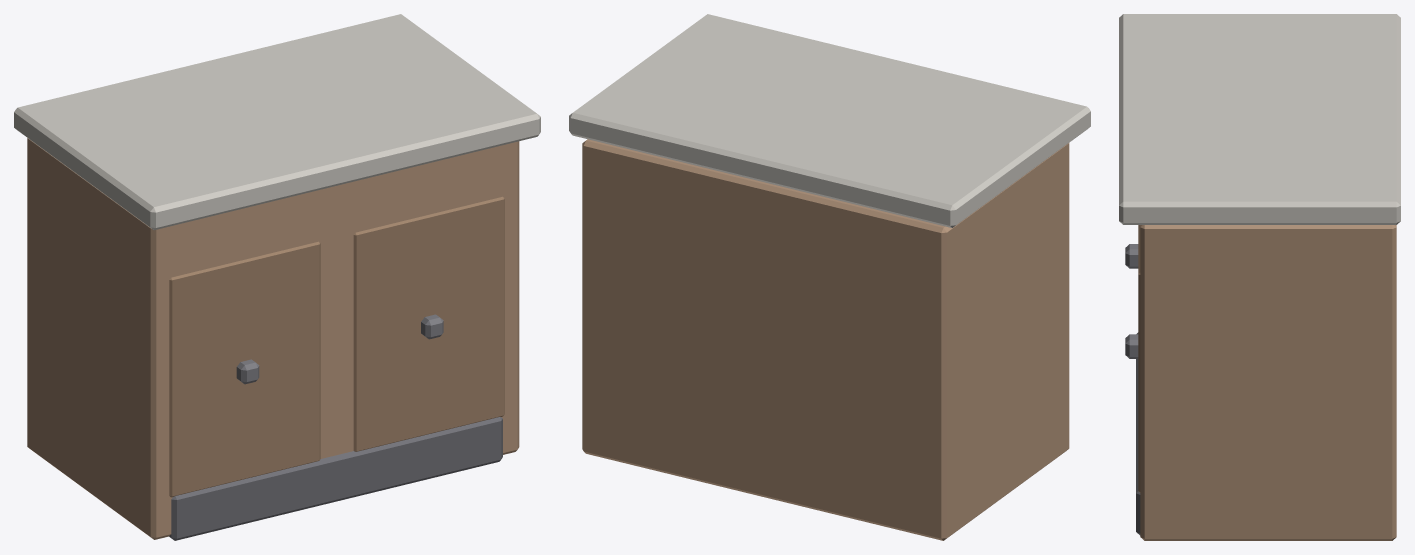
The model's file is SM_Counter_Straight.fbx.
3 views of the same model, side by side, from view 1: azimuth 30°, elevation 25°; view 2: azimuth 150°, elevation 25°; view 3: azimuth 270°, elevation 25° (orthographic).
Visible parts, largest first — view 1: Counter_Straight; view 2: Counter_Straight; view 3: Counter_Straight.
Boxes of the visible parts, bbox=[...] form: Counter_Straight: bbox=[14, 14, 540, 540]; Counter_Straight: bbox=[569, 14, 1090, 540]; Counter_Straight: bbox=[1119, 14, 1400, 540].
Size of the model in its own units: 106 by 90 by 66.
